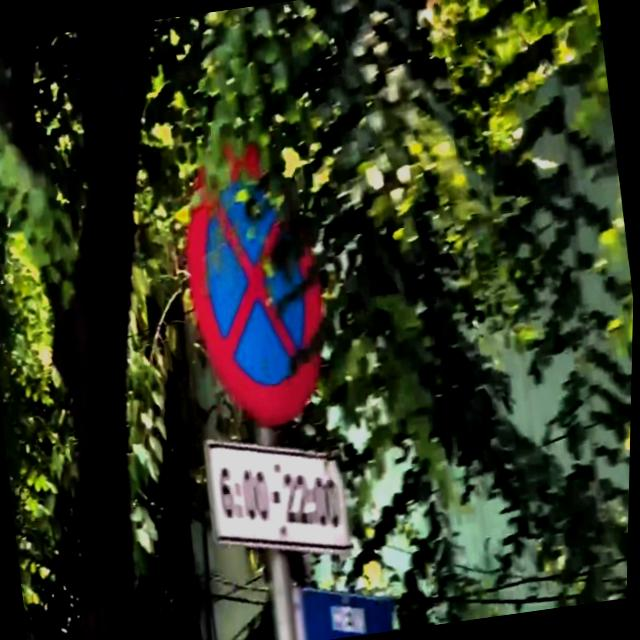Cam dung xe va do xe: (169, 124, 347, 436)
